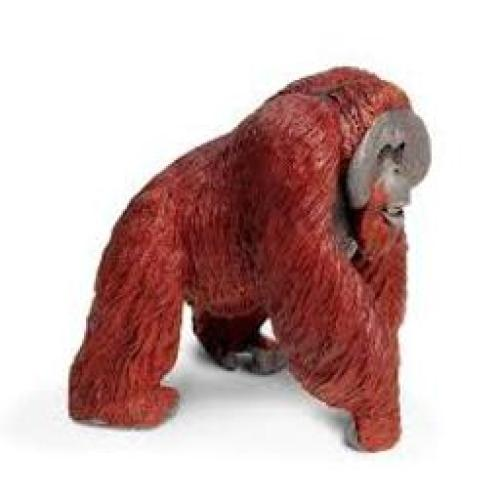orangutan-endangered: (62, 62, 430, 454)
